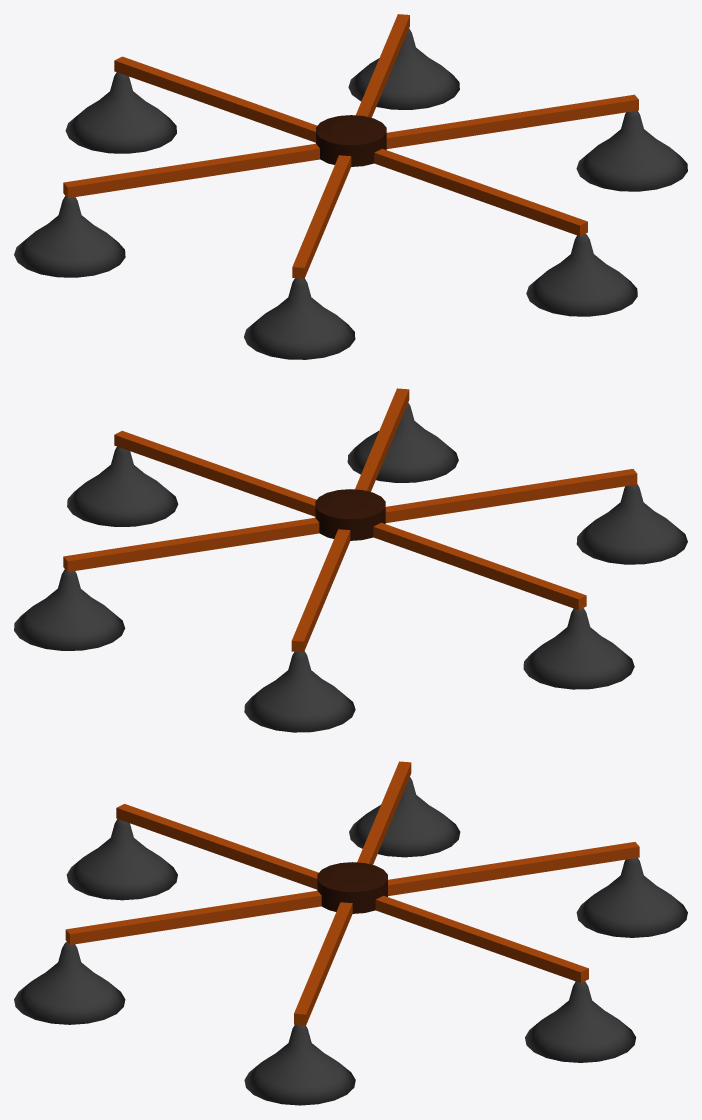
Rendered from Lamp t4.FBX.
3 views of the same model, one above another, from view 1: azimuth 30°, elevation 25°; view 2: azimuth 150°, elevation 25°; view 3: azimuth 270°, elevation 25° (orthographic).
Parts seen in each view (by area): view 1: Lamp t3, Lamp 001, Lamp 006, Lamp 005, Lamp 002, Lamp 004, Lamp 003; view 2: Lamp t3, Lamp 005, Lamp 004, Lamp 003, Lamp 006, Lamp 002, Lamp 001; view 3: Lamp t3, Lamp 001, Lamp 003, Lamp 002, Lamp 006, Lamp 004, Lamp 005.
Boxes of the visible parts, x1,y1,x2,y2 form: Lamp t3: (63, 14, 638, 278); Lamp 001: (526, 234, 637, 316); Lamp 006: (244, 278, 355, 359); Lamp 005: (14, 196, 125, 277); Lamp 002: (576, 110, 687, 191); Lamp 004: (65, 72, 176, 153); Lamp 003: (348, 28, 459, 109); Lamp t3: (63, 388, 637, 652); Lamp 005: (523, 608, 634, 689); Lamp 004: (244, 651, 355, 732); Lamp 003: (14, 569, 125, 650); Lamp 006: (576, 484, 687, 564); Lamp 002: (67, 446, 178, 526); Lamp 001: (347, 402, 458, 482); Lamp t3: (65, 761, 639, 1025); Lamp 001: (14, 942, 125, 1024); Lamp 003: (525, 981, 636, 1062); Lamp 002: (244, 1024, 355, 1105); Lamp 006: (66, 819, 177, 900); Lamp 004: (576, 858, 687, 937); Lamp 005: (349, 777, 460, 857).
Bounding box in the file's own units: 46.11 × 5.99 × 44.51.
